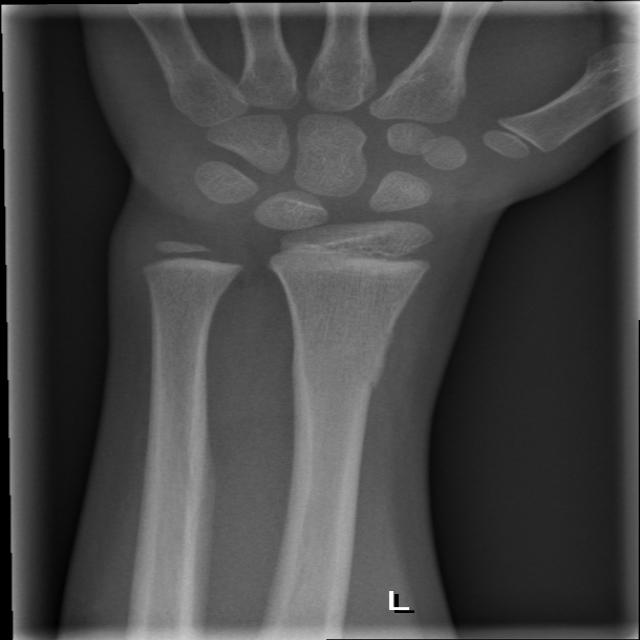radius fracture: (326, 313, 421, 458)
